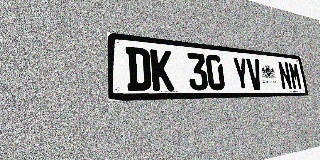0: (205, 54, 225, 90)
3: (187, 52, 208, 90)
D: (126, 46, 152, 91)
K: (150, 49, 174, 91)
M: (288, 62, 303, 90)
N: (277, 61, 293, 90)
V: (246, 58, 264, 90)
Y: (232, 57, 250, 90)
